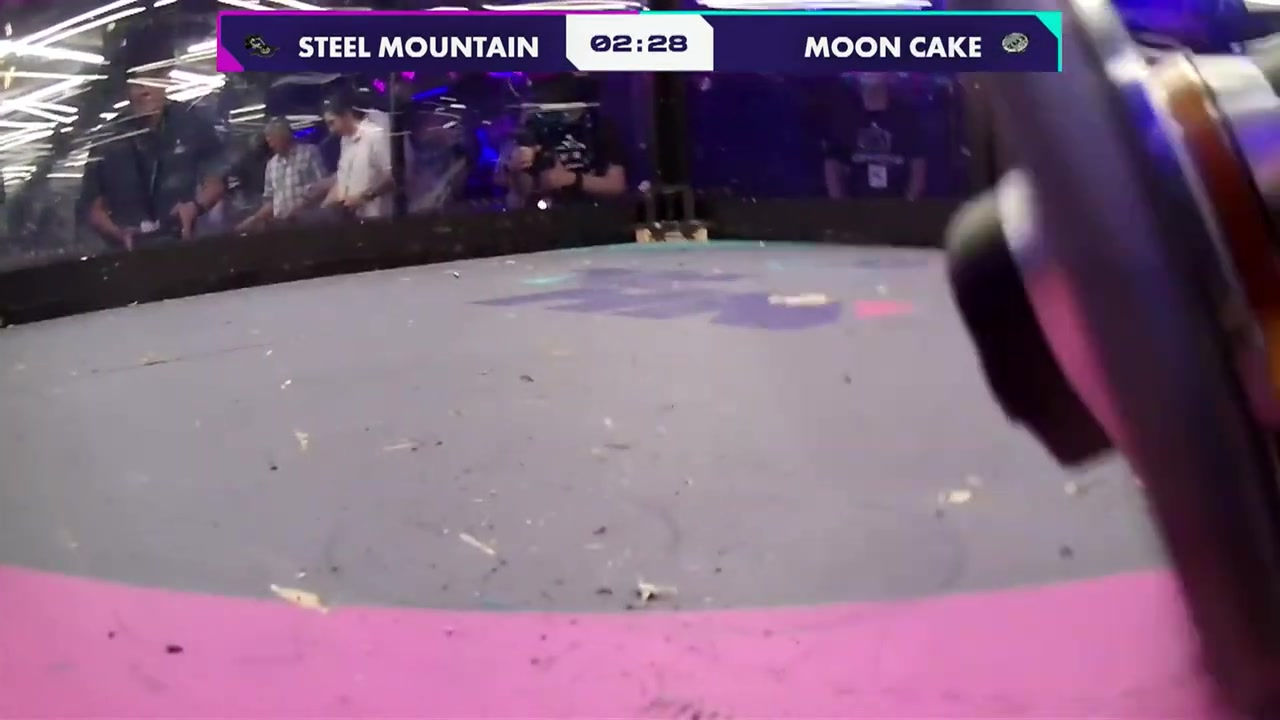combatbot: (944, 0, 1280, 720)
